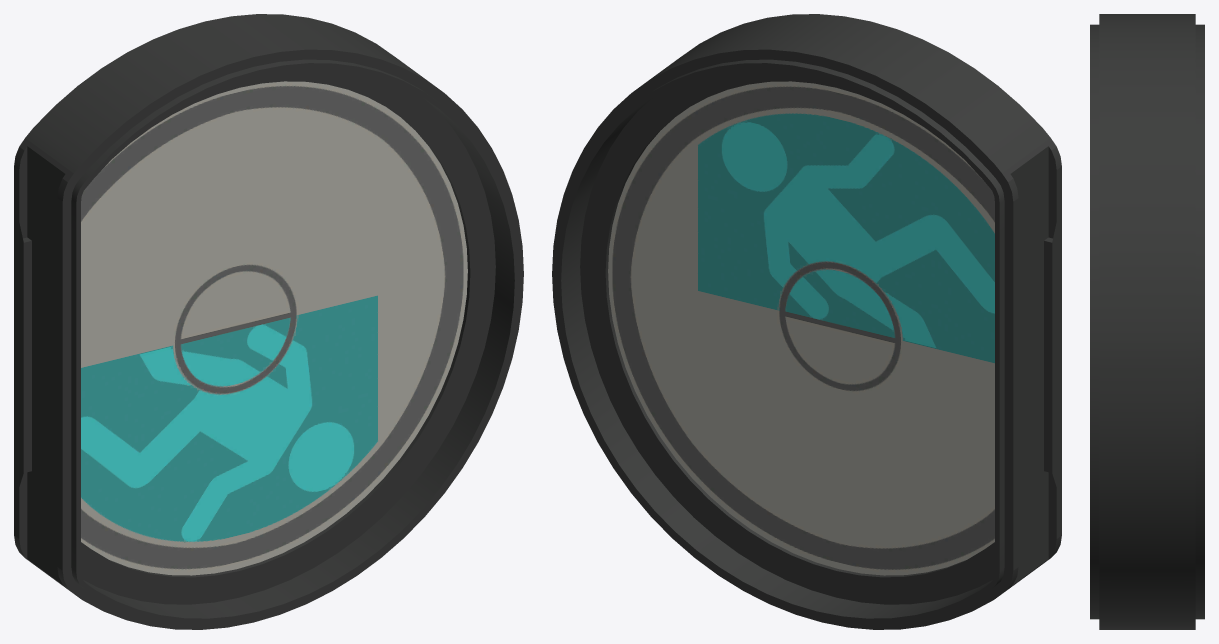
Rendered from EDITOR_door.obj.
3 renders of one model, left to right at view 1: azimuth 30°, elevation 25°; view 2: azimuth 150°, elevation 25°; view 3: azimuth 270°, elevation 25°, orthographic.
Parts seen in each view (by area): view 1: body.dmx/door.dmx.mesh_0; view 2: body.dmx/door.dmx.mesh_0; view 3: body.dmx/door.dmx.mesh_0.
Boxes of the visible parts, bbox=[...] form: body.dmx/door.dmx.mesh_0: bbox=[14, 14, 523, 629]; body.dmx/door.dmx.mesh_0: bbox=[552, 14, 1061, 629]; body.dmx/door.dmx.mesh_0: bbox=[1090, 14, 1204, 629].
Bounding box in the file's own units: 109 × 127 × 23.74.
